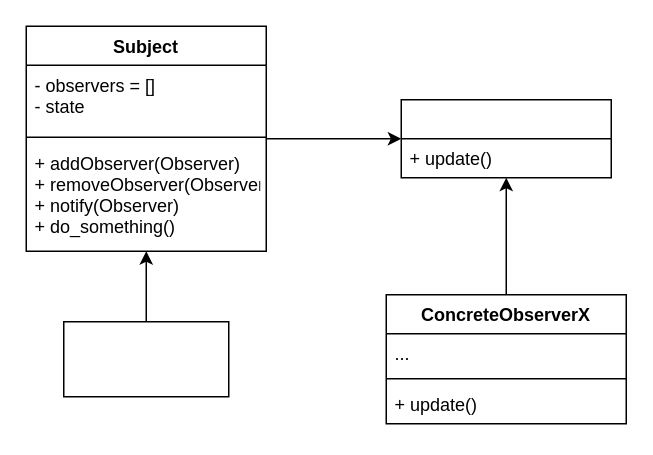
Some shapes in this 653 by 455 pixel diagram are drawn without their labels. Each missing label, with the box of its shape:
Client: (62, 320, 229, 397)
Observer: (400, 98, 611, 178)
